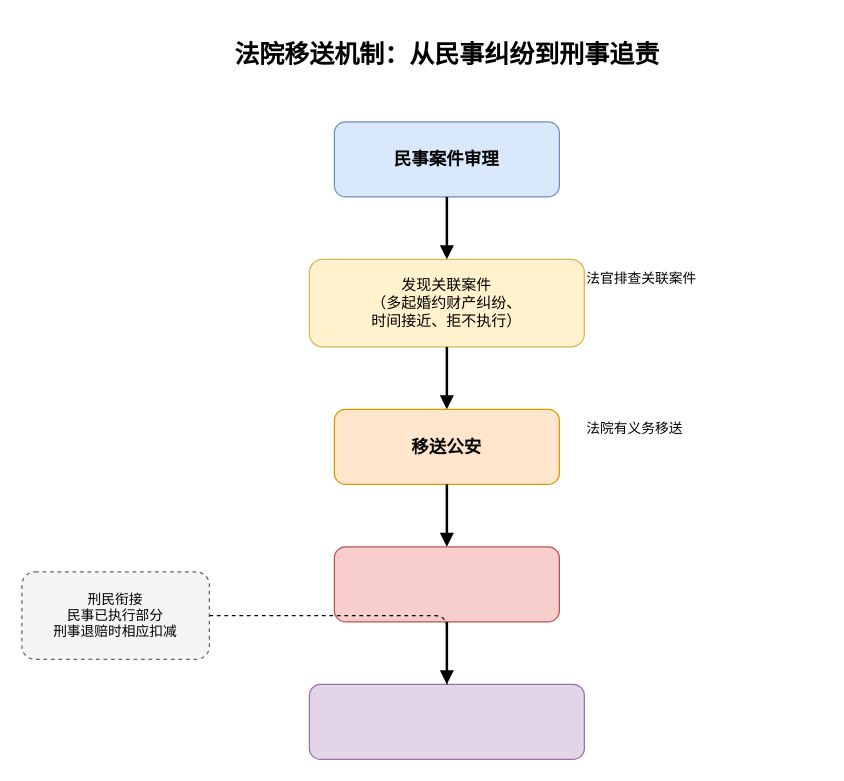
Image size: 844x781. Some labels were removed from this diagram. Each missing label, with the centre of its shape:
刑事判决 （退赔 + 刑事责任）: pixel 446 721
刑事立案侦查: pixel 446 584
